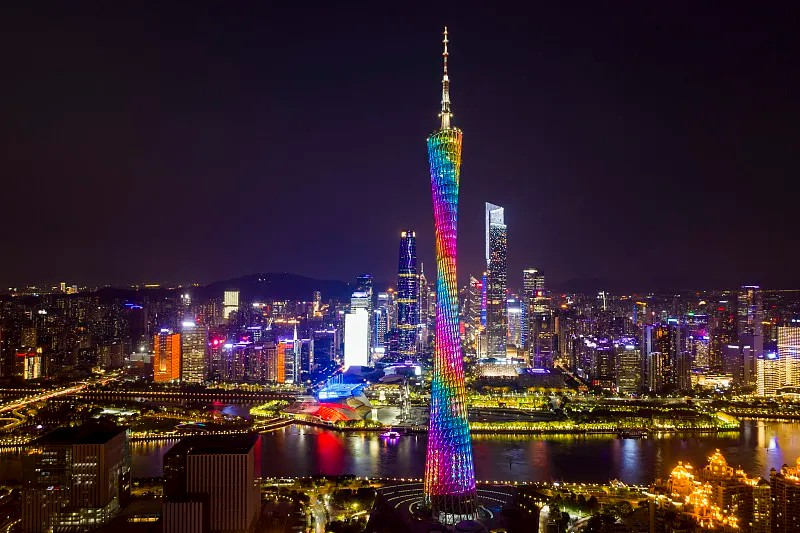Canton: (419, 25, 477, 516)
